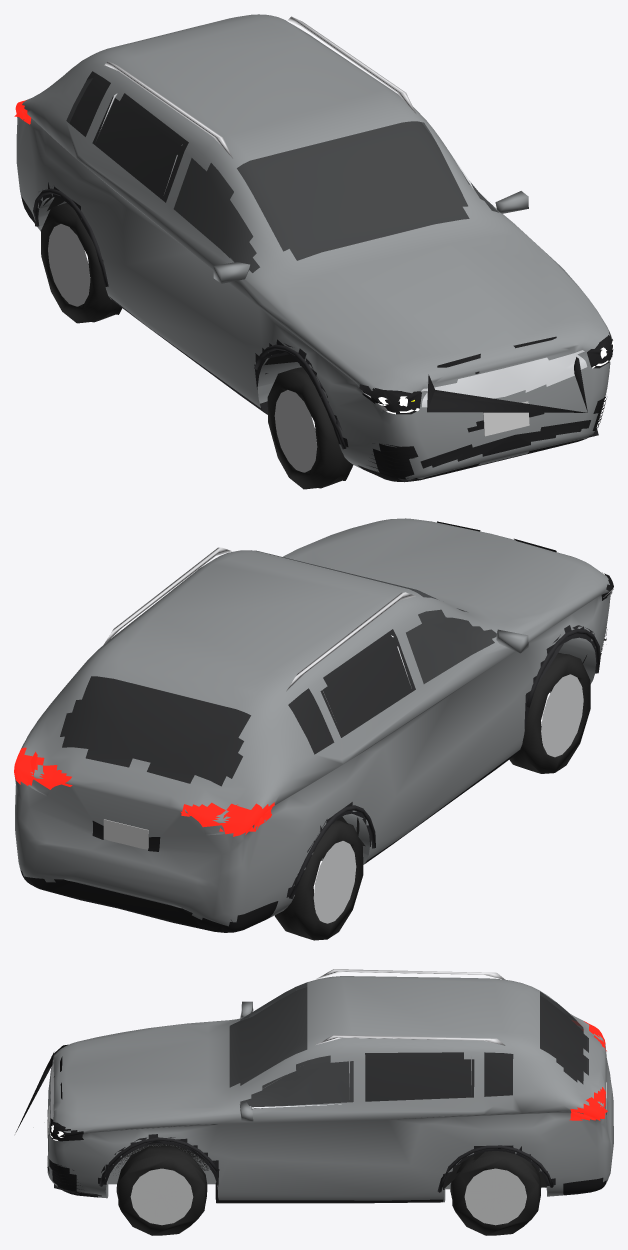
The model's file is compactSuv-lod2.glb.
3 views of the same model, one above another, from view 1: azimuth 30°, elevation 25°; view 2: azimuth 150°, elevation 25°; view 3: azimuth 270°, elevation 25° (orthographic). The views are drawn at different scales.
Visible parts, largest first — view 1: Body, Body_Lining, Body_Trim, Wheel_FR_Tyre, Wheel_RR_Tyre, Wheel_RR_Face, Wheel_FR_Face, PlateFront, RoofRail_R, RoofRail_L, ArchMouldF_R, ArchMouldR_R (+1 smaller); view 2: Body, Body_Lining, Wheel_RR_Tyre, Wheel_FR_Tyre, Wheel_FR_Face, Wheel_RR_Face, Body_Trim, PlateRear, RoofRail_R, RoofRail_L, ArchMouldR_R, ArchMouldF_R; view 3: Body, Body_Lining, Wheel_FL_Tyre, Wheel_RL_Tyre, Wheel_FL_Face, Wheel_RL_Face, Body_Trim, ArchMouldR_L, RoofRail_R, RoofRail_L, ArchMouldF_L.
Part boxes in pixels (left/top/right/bottom): Body: left=15, top=14, right=611, bottom=481; Body_Lining: left=70, top=74, right=468, bottom=272; Body_Trim: left=14, top=93, right=613, bottom=482; Wheel_FR_Tyre: left=267, top=367, right=353, bottom=489; Wheel_RR_Tyre: left=41, top=203, right=122, bottom=323; Wheel_RR_Face: left=48, top=224, right=90, bottom=306; Wheel_FR_Face: left=274, top=390, right=317, bottom=472; PlateFront: left=483, top=401, right=529, bottom=436; RoofRail_R: left=104, top=61, right=232, bottom=158; RoofRail_L: left=287, top=16, right=416, bottom=113; ArchMouldF_R: left=254, top=344, right=346, bottom=449; ArchMouldR_R: left=33, top=188, right=108, bottom=286; Body: left=14, top=518, right=610, bottom=932; Body_Lining: left=62, top=609, right=496, bottom=785; Wheel_RR_Tyre: left=274, top=820, right=363, bottom=940; Wheel_FR_Tyre: left=509, top=652, right=590, bottom=773; Wheel_FR_Face: left=541, top=674, right=583, bottom=757; Wheel_RR_Face: left=313, top=841, right=356, bottom=923; Body_Trim: left=27, top=521, right=613, bottom=922; PlateRear: left=103, top=819, right=148, bottom=849; RoofRail_R: left=286, top=592, right=415, bottom=691; RoofRail_L: left=103, top=547, right=231, bottom=645; ArchMouldR_R: left=289, top=805, right=375, bottom=899; ArchMouldF_R: left=526, top=628, right=600, bottom=707; Body: left=47, top=976, right=613, bottom=1203; Body_Lining: left=230, top=987, right=586, bottom=1108; Wheel_FL_Tyre: left=116, top=1146, right=207, bottom=1235; Wheel_RL_Tyre: left=450, top=1151, right=541, bottom=1235; Wheel_FL_Face: left=130, top=1168, right=193, bottom=1225; Wheel_RL_Face: left=464, top=1168, right=526, bottom=1225; Body_Trim: left=15, top=1030, right=607, bottom=1196; ArchMouldR_L: left=437, top=1145, right=553, bottom=1192; RoofRail_R: left=316, top=969, right=504, bottom=979; RoofRail_L: left=316, top=1035, right=505, bottom=1045; ArchMouldF_L: left=99, top=1137, right=217, bottom=1186.
Size of the model in its own units: 2.1 by 1.66 by 4.82.
